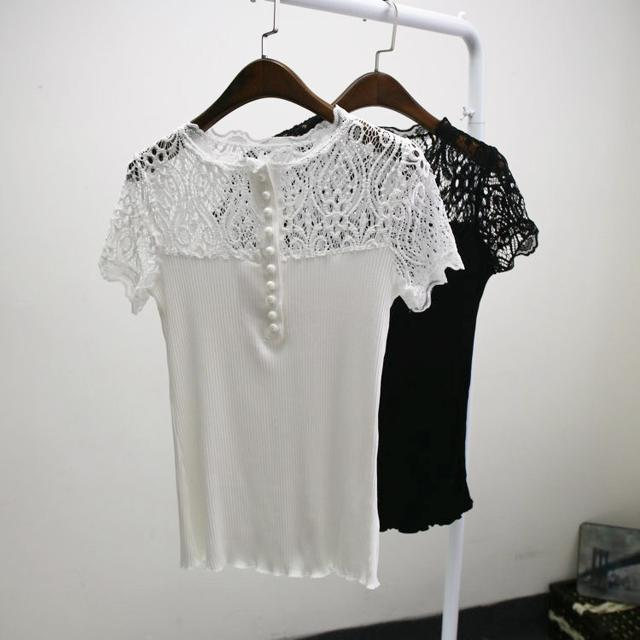Tops: (104, 126, 456, 581)
